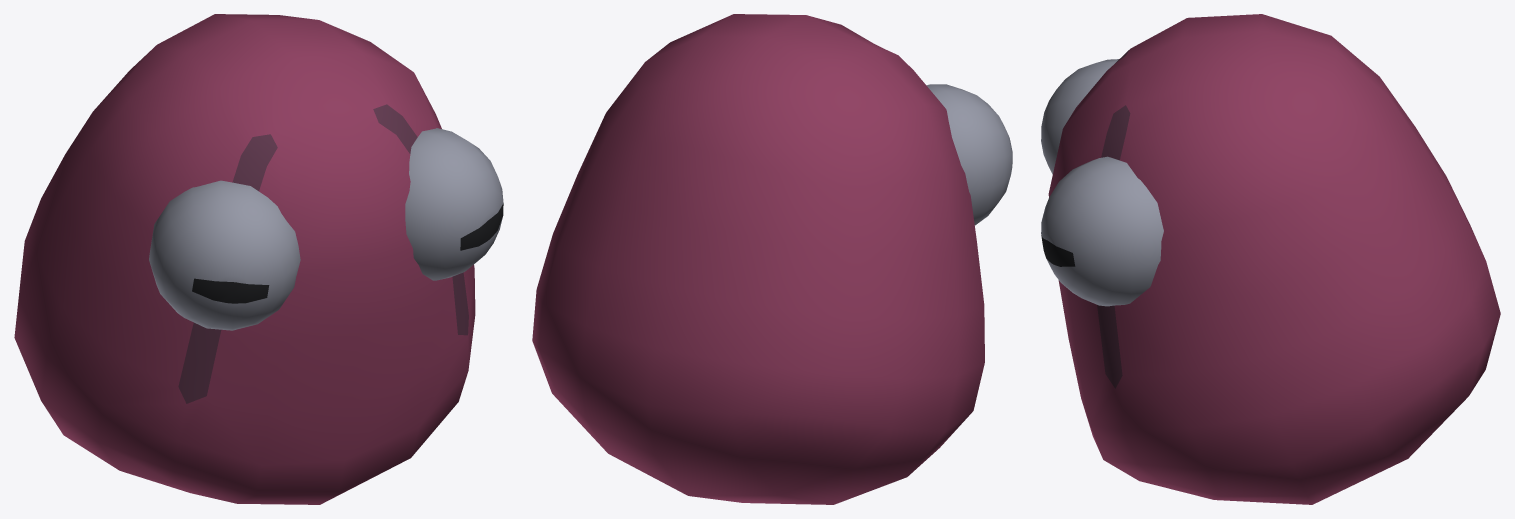
The model's file is pinkblob.glb.
3 views of the same model, side by side, from view 1: azimuth 30°, elevation 25°; view 2: azimuth 150°, elevation 25°; view 3: azimuth 270°, elevation 25° (orthographic).
Visible parts, largest first — view 1: Pink_Blob, Pink_Blob.001; view 2: Pink_Blob, Pink_Blob.001; view 3: Pink_Blob, Pink_Blob.001.
Part boxes in pixels (x1=…): Pink_Blob: x1=14, y1=14, x2=475, y2=504; Pink_Blob.001: x1=149, y1=128, x2=503, y2=330; Pink_Blob: x1=532, y1=14, x2=984, y2=504; Pink_Blob.001: x1=926, y1=84, x2=1012, y2=225; Pink_Blob: x1=1048, y1=14, x2=1500, y2=504; Pink_Blob.001: x1=1041, y1=59, x2=1163, y2=306.
Size of the model in its own units: 1.83 by 2 by 1.85.
1 material, 1 textured.
